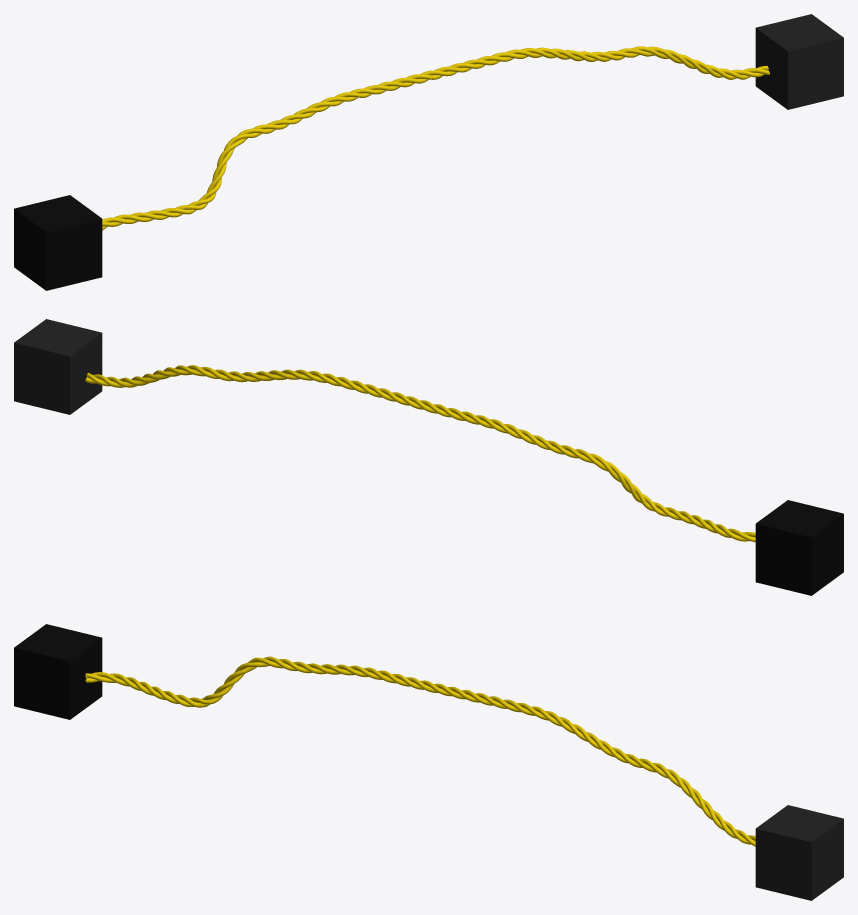
Rendered from cuerda.fbx.
3 renders of one model, top to bottom at view 1: azimuth 30°, elevation 25°; view 2: azimuth 150°, elevation 25°; view 3: azimuth 330°, elevation 25°, orthographic.
Visible parts, largest first — view 1: Circle, Cube, Cube.001; view 2: Circle, Cube, Cube.001; view 3: Circle, Cube.001, Cube.
Part boxes in pixels (left/top/right/bottom): Circle: left=102, top=46, right=769, bottom=230; Cube: left=14, top=195, right=102, bottom=290; Cube.001: left=755, top=14, right=843, bottom=109; Circle: left=85, top=365, right=755, bottom=542; Cube: left=755, top=500, right=843, bottom=595; Cube.001: left=14, top=319, right=102, bottom=414; Circle: left=85, top=656, right=755, bottom=846; Cube.001: left=755, top=805, right=843, bottom=900; Cube: left=14, top=624, right=102, bottom=719.
Size of the model in its own units: 18609 by 2222 by 1307.
